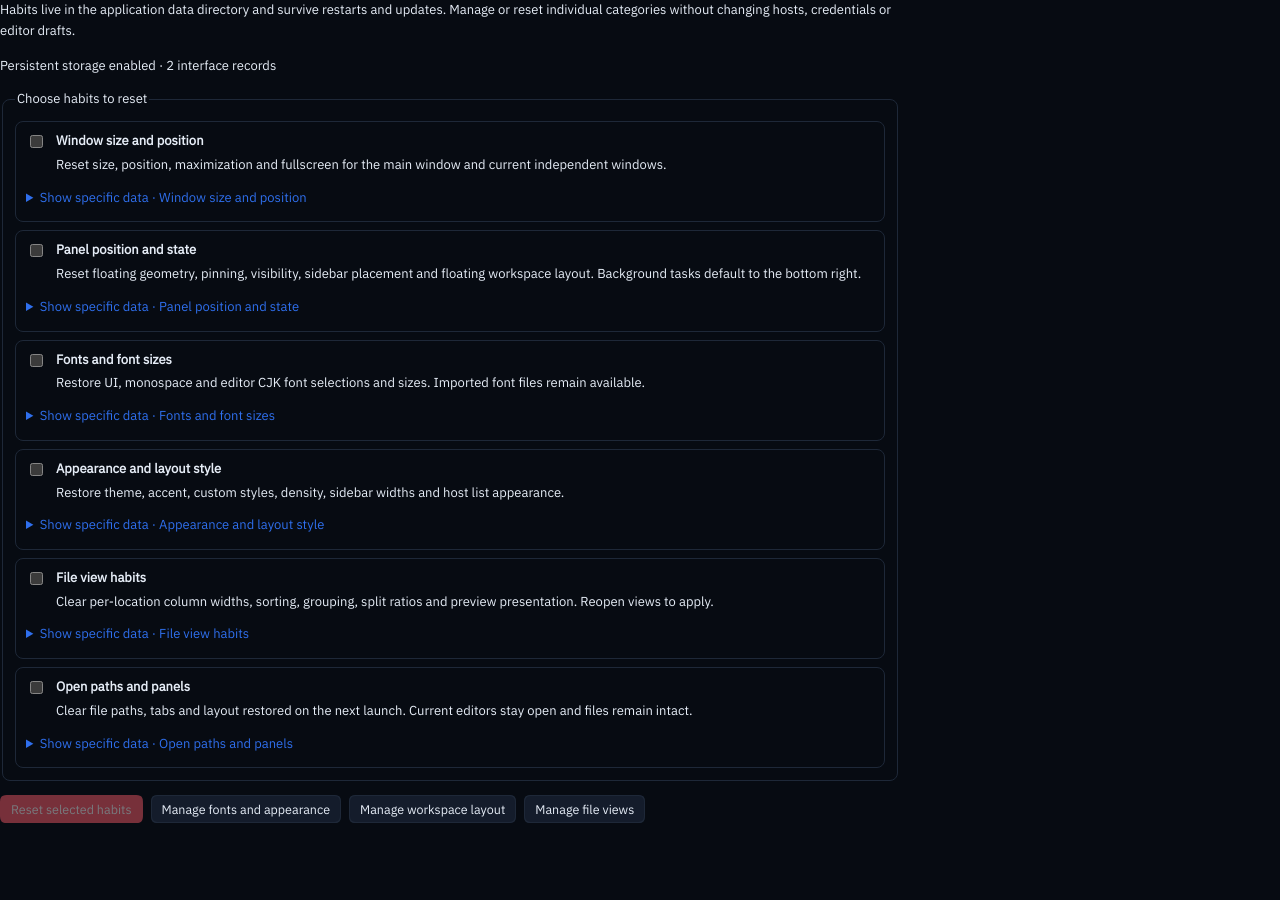
it: reviews explicit categories before resetting and keeps a failed review visible
The width and height of the screenshot is (1280, 900).
Click the checkbox labelled "Fonts and font sizes": click(36, 360) x1=30 y1=354 x2=43 y2=367
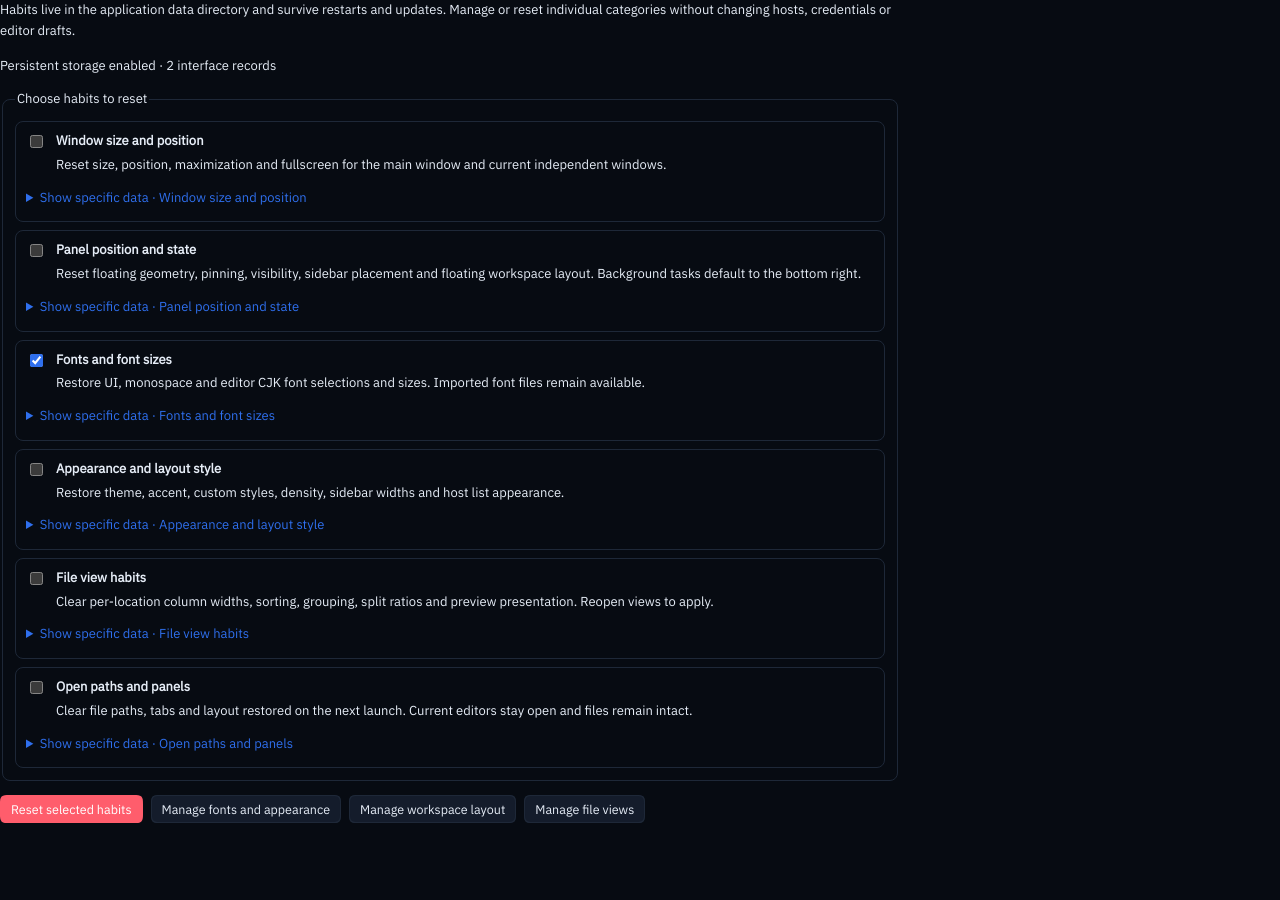
Click the button "Reset selected habits": click(71, 809) x1=0 y1=795 x2=142 y2=823
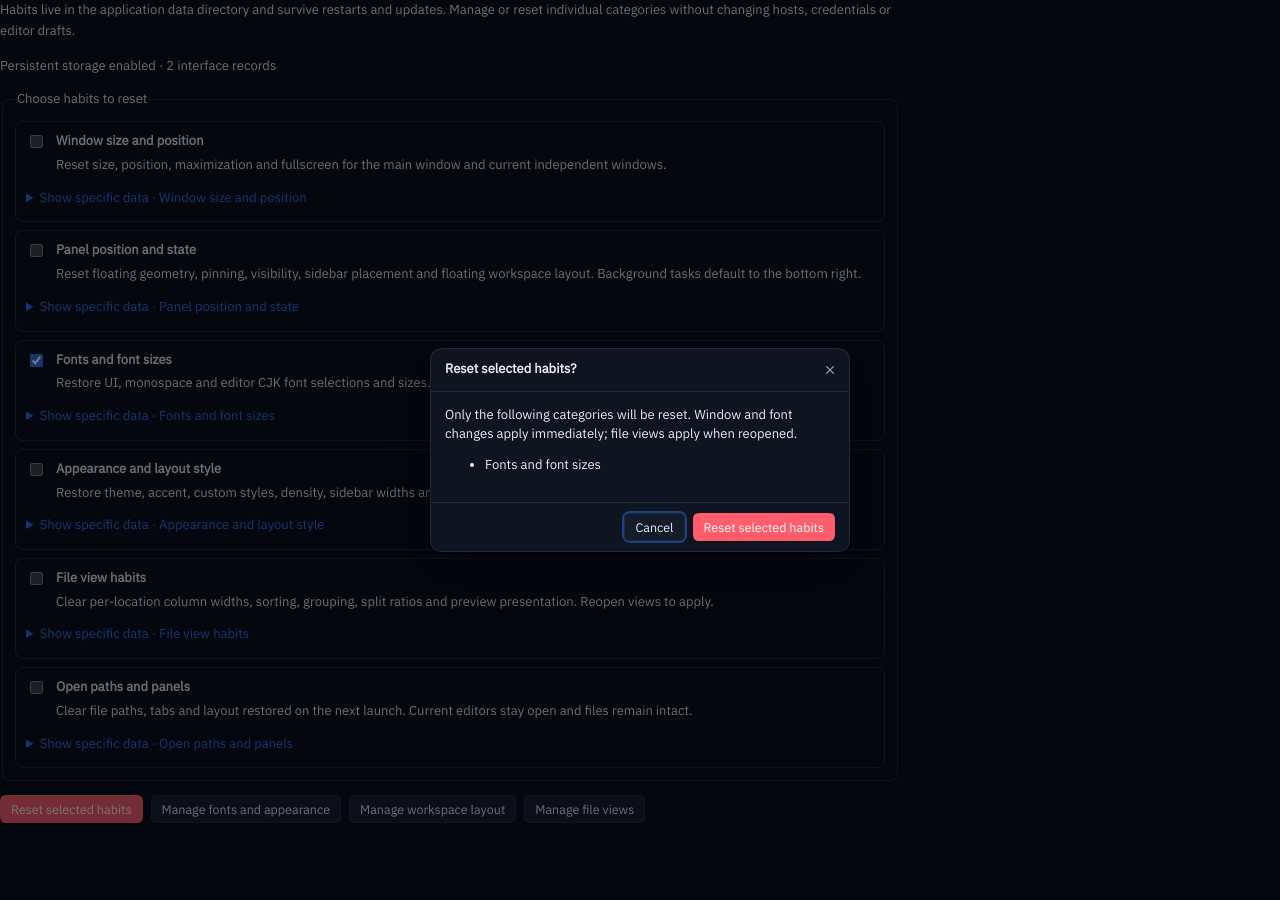
Now the list item "Fonts and font sizes" is shown, box x1=485 y1=456 x2=601 y2=473
Click the button "Reset selected habits": click(764, 527) x1=692 y1=513 x2=835 y2=541
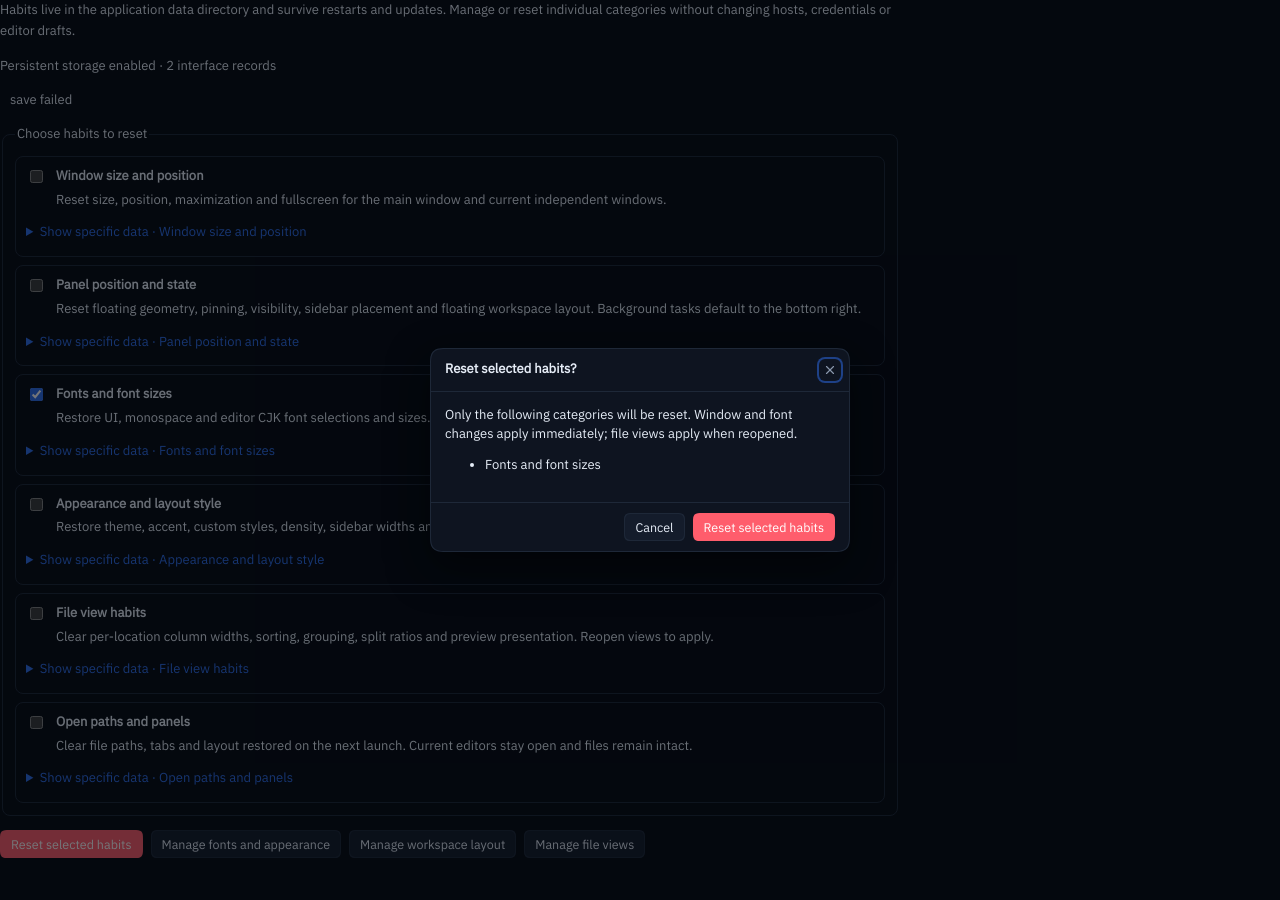
Now the dialog is shown, box x1=430 y1=348 x2=850 y2=552
Now the message reads "save failed", box x1=10 y1=91 x2=72 y2=108
